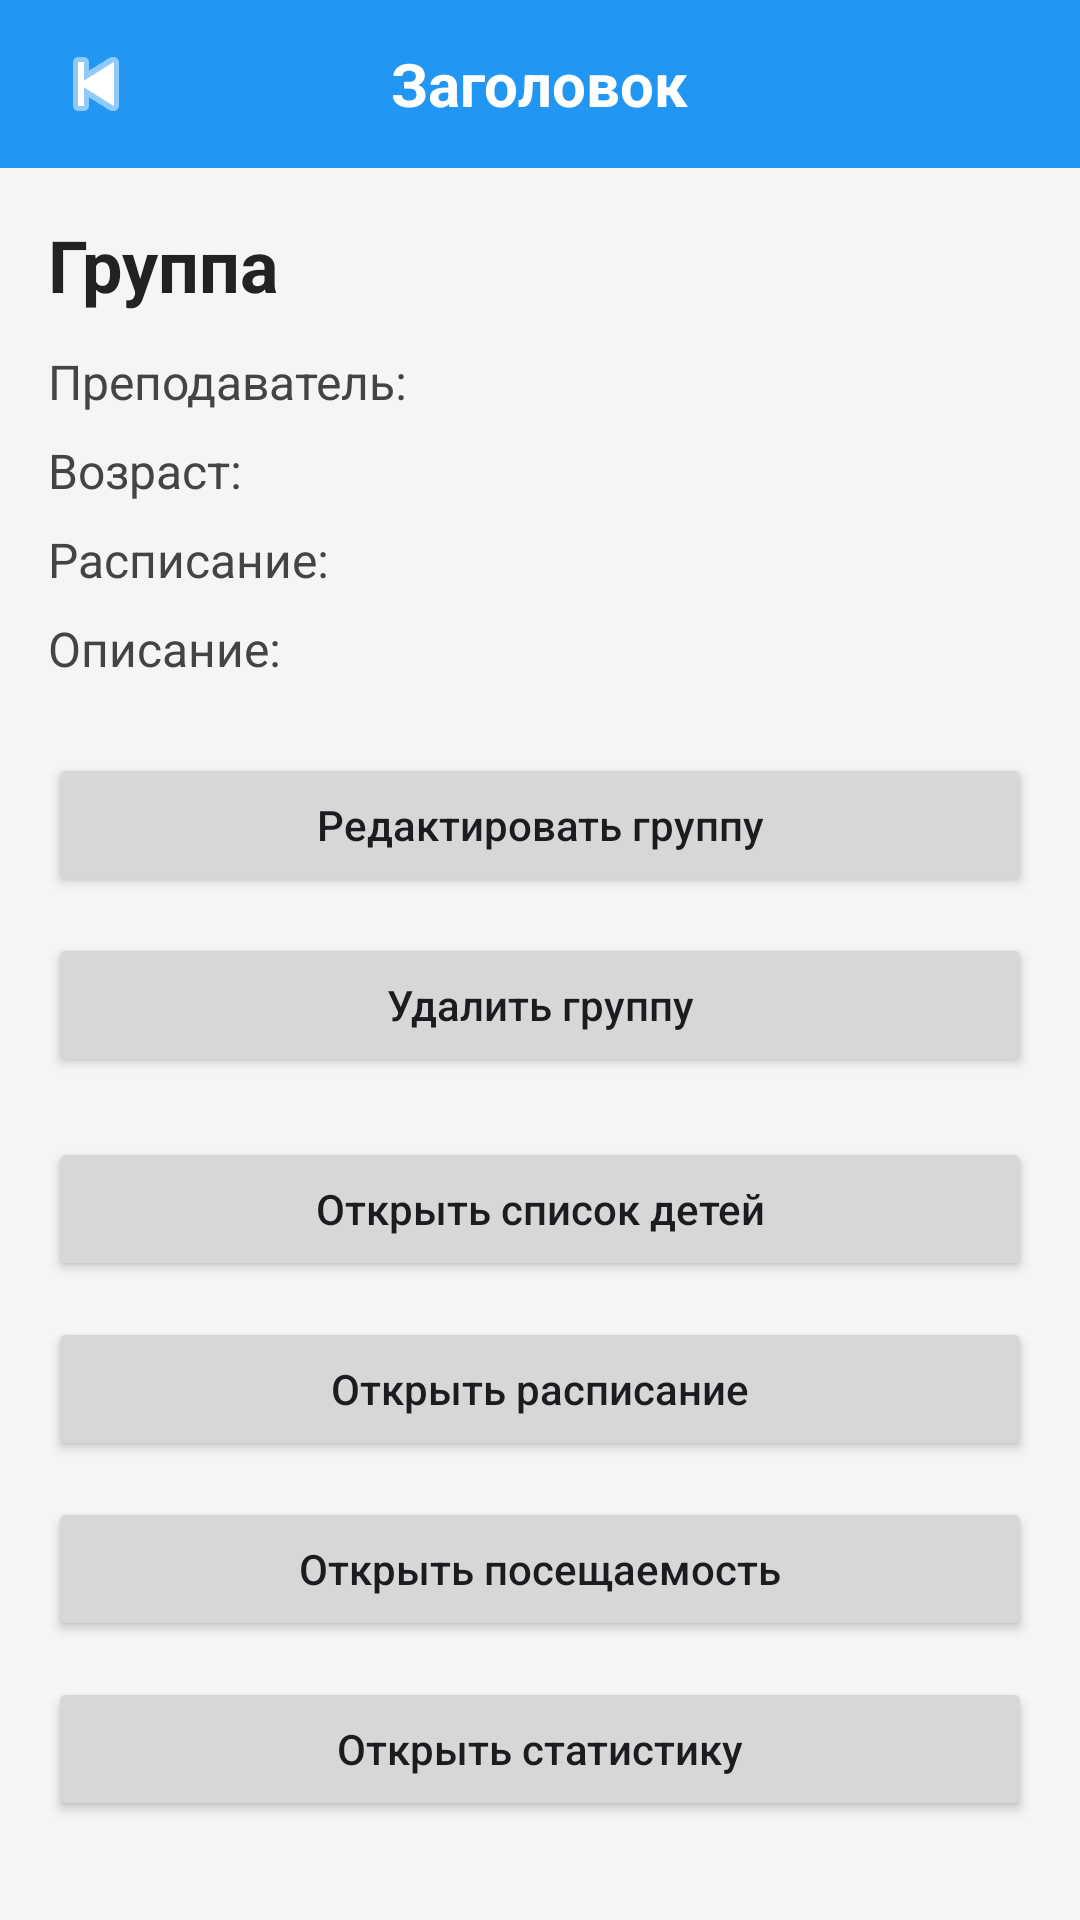

Named icons in this screenshot (1080x1920) and their centers, [x,y]:
Назад: [96,84]
